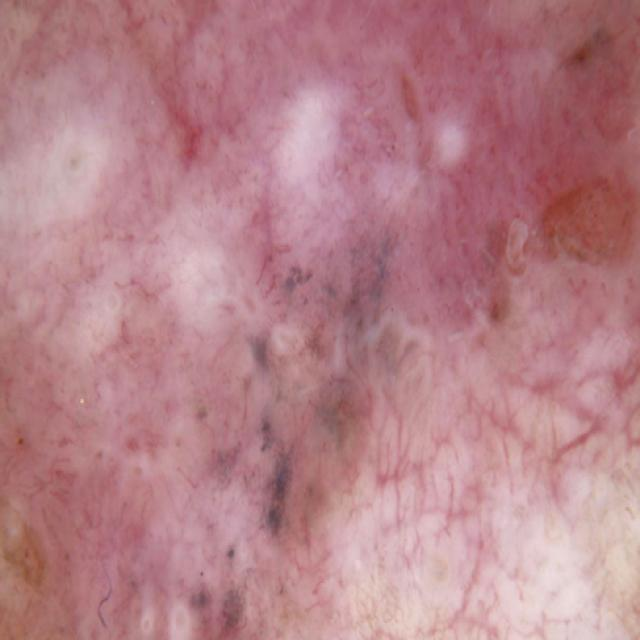Carcinoma: (3, 161, 613, 640)
